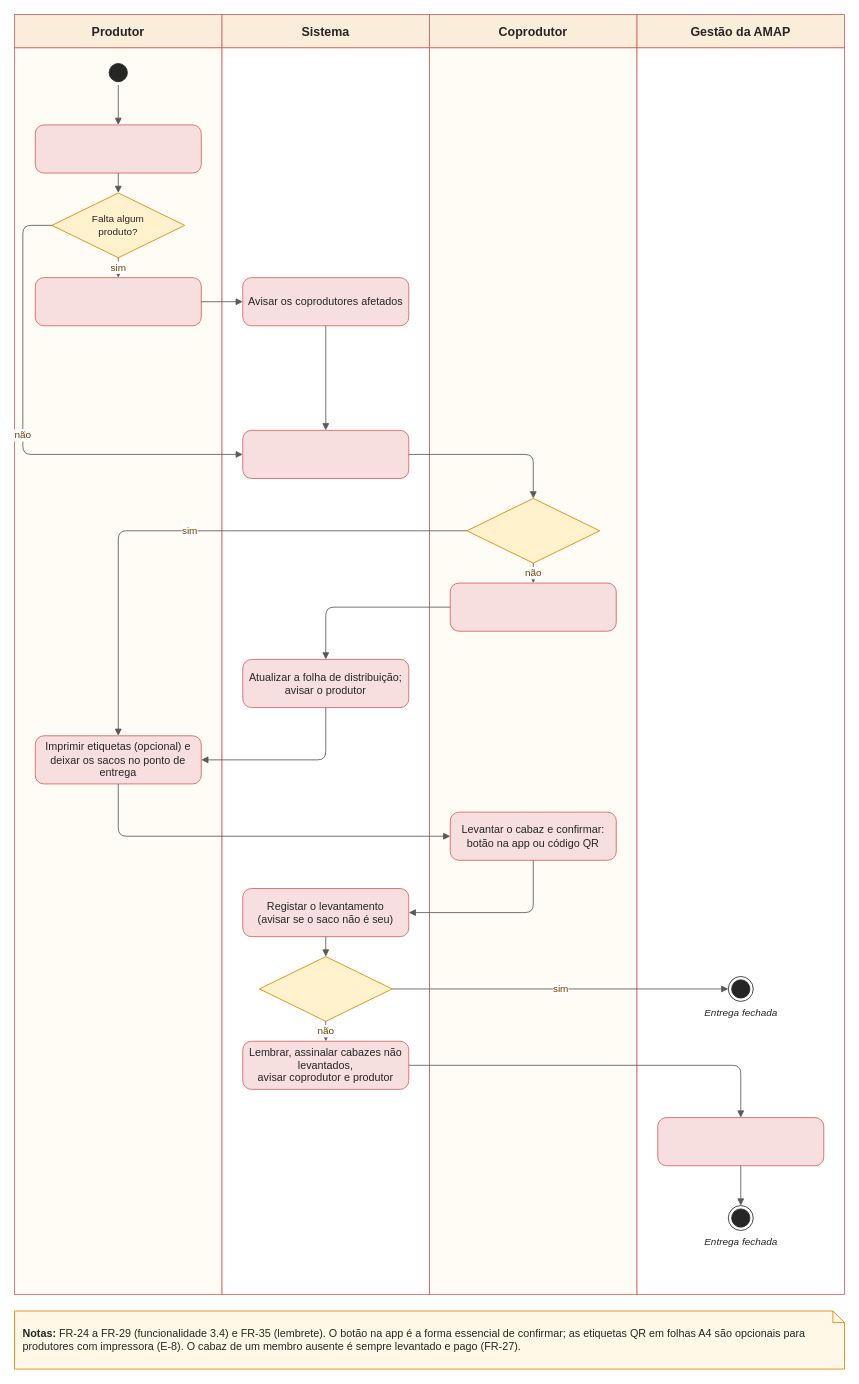
Image size: 859x1384. Some labels were removed from this diagram. Here are the shapes that lost their labels. From the top down, the centre of each, then its label:
At point 117,148: "Publicar o conteúdo do cabaz".
At point 117,301: "Registar a falta e a compensação (notícia opcional)".
At point 325,454: "Enviar lembrete na véspera: o que levantar, local e hora".
At point 533,530: "Pode levantar o cabaz?".
At point 532,606: "Indicar ausência: destino e quem levanta".
At point 325,988: "Todos os cabazes confirmados?".
At point 740,1141: "Confirmar em nome de membros sem telemóvel".
